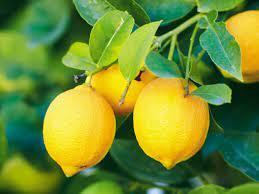lemon: (134, 77, 210, 170), (43, 84, 116, 178), (90, 64, 158, 112), (218, 10, 259, 84)
